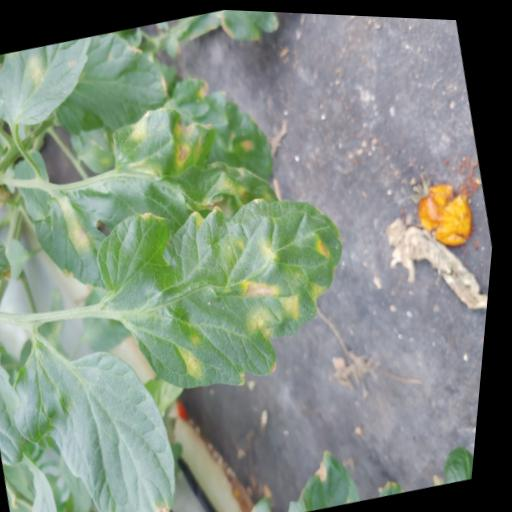Leaf Mold: (84, 161, 380, 415), (18, 76, 305, 310), (0, 32, 110, 136)
